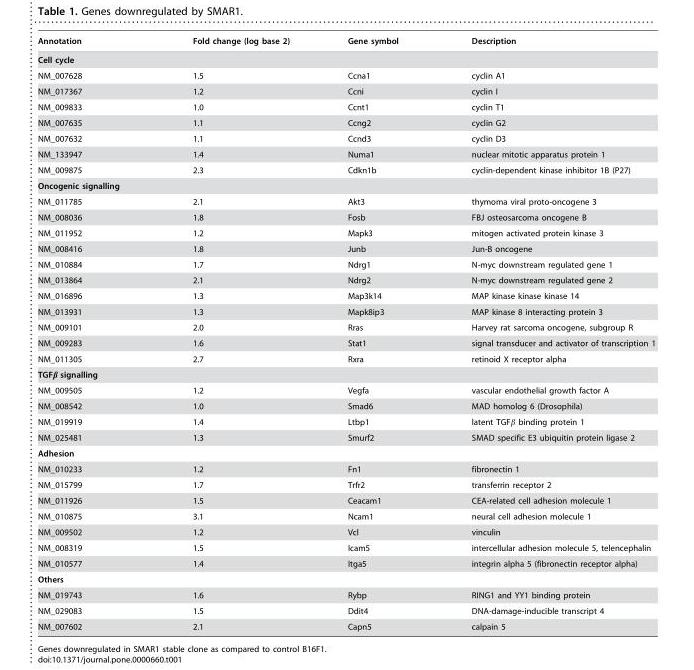table: (37, 36, 654, 630)
table column: (434, 36, 654, 630), (136, 36, 318, 630), (318, 36, 434, 630), (37, 36, 136, 630)
table column header: (37, 36, 654, 50)
table projected row header: (37, 50, 654, 67), (37, 177, 654, 193), (37, 366, 654, 382), (37, 445, 654, 461), (37, 571, 654, 587)
table row: (37, 50, 654, 67), (37, 67, 654, 83), (37, 83, 654, 99), (37, 114, 654, 130), (37, 130, 654, 146), (37, 146, 654, 162), (37, 177, 654, 193), (37, 193, 654, 209), (37, 209, 654, 225), (37, 240, 654, 256), (37, 256, 654, 272), (37, 287, 654, 303), (37, 303, 654, 319), (37, 319, 654, 335), (37, 350, 654, 366), (37, 366, 654, 382), (37, 382, 654, 398), (37, 413, 654, 429), (37, 429, 654, 445), (37, 445, 654, 461), (37, 476, 654, 492), (37, 492, 654, 508), (37, 508, 654, 524), (37, 539, 654, 555), (37, 555, 654, 571), (37, 571, 654, 587), (37, 602, 654, 618), (37, 99, 654, 114), (37, 162, 654, 177), (37, 225, 654, 240), (37, 272, 654, 287), (37, 335, 654, 350), (37, 398, 654, 413), (37, 461, 654, 476), (37, 524, 654, 539), (37, 587, 654, 602), (37, 36, 654, 50), (37, 618, 654, 630)
